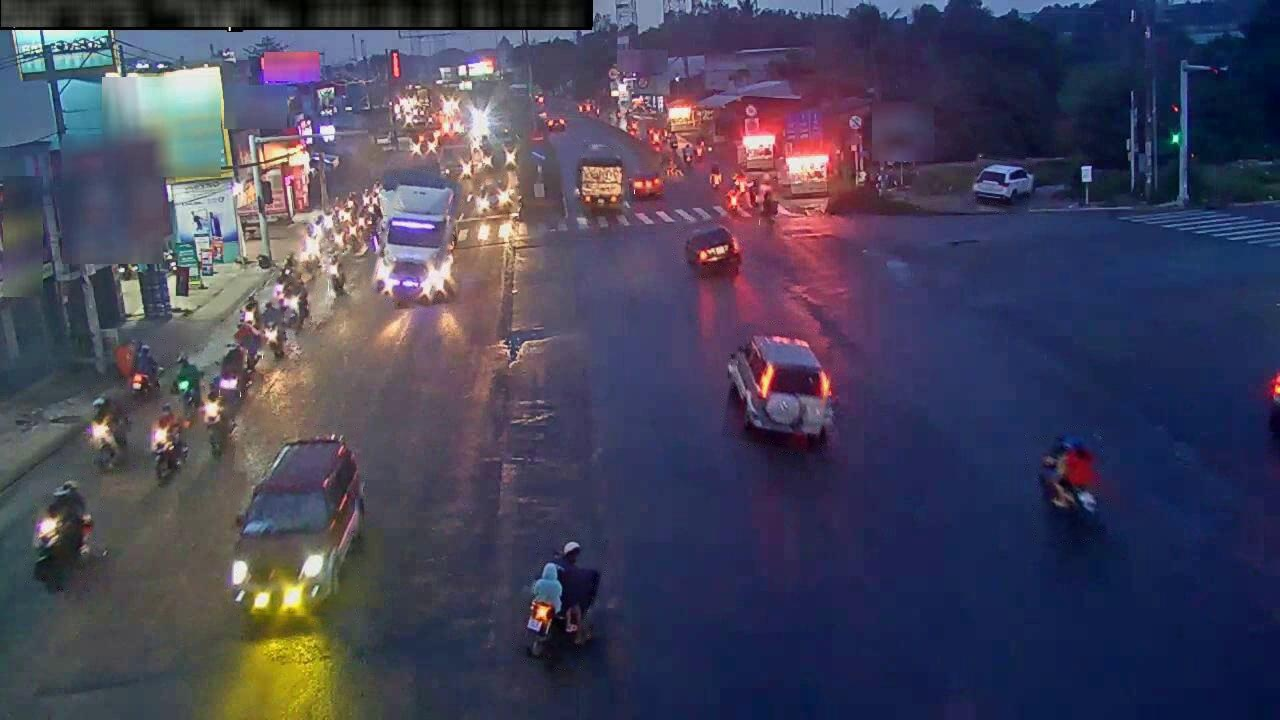Car: (229, 435, 365, 624), (726, 335, 834, 442), (685, 225, 741, 271), (973, 164, 1034, 203), (628, 147, 664, 200), (473, 175, 517, 214)
Motorcycle: (1038, 458, 1100, 524), (88, 420, 122, 471), (1269, 376, 1279, 438)
Motorcyclist: (523, 540, 600, 657), (33, 481, 92, 560), (215, 321, 261, 403), (151, 405, 188, 483), (201, 378, 231, 457), (172, 353, 202, 409), (129, 343, 159, 399), (260, 301, 286, 360), (288, 274, 309, 329), (275, 253, 296, 300), (324, 249, 345, 296), (759, 182, 777, 225)
Pedestrian: (709, 165, 722, 188)
Traffic light: (1168, 103, 1183, 146)
Truck: (375, 166, 459, 306), (575, 145, 625, 207)
